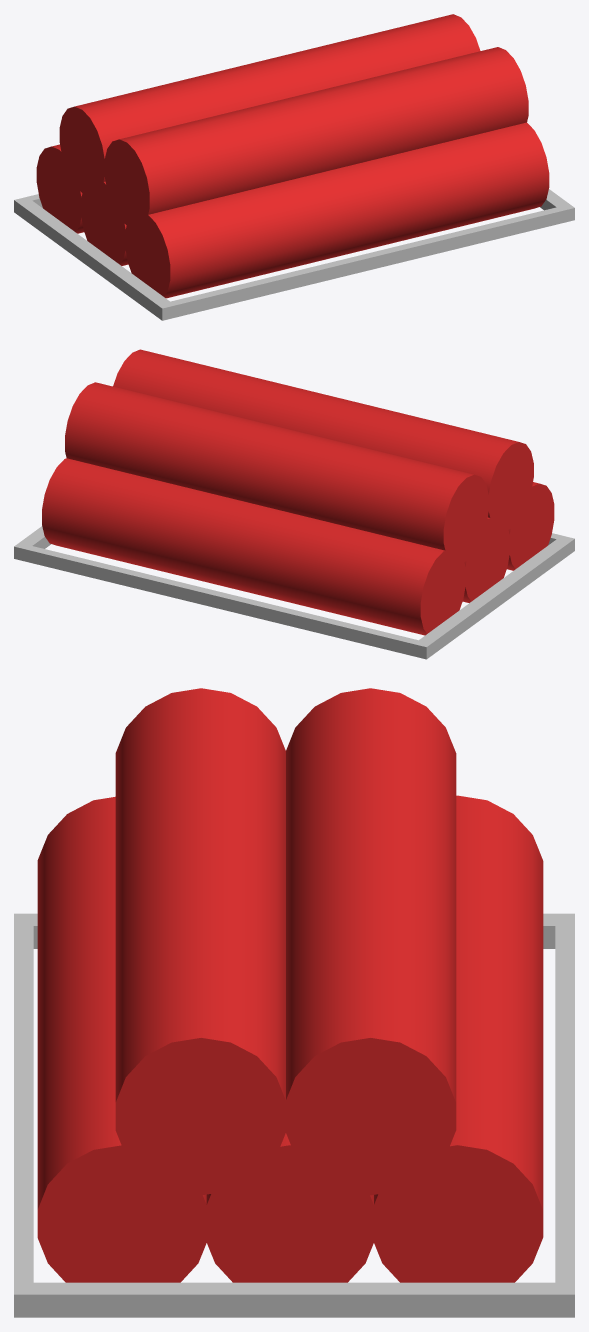
File: wood.fbx
The picture shows the model from 3 angles, top to bottom: view 1: azimuth 30°, elevation 25°; view 2: azimuth 150°, elevation 25°; view 3: azimuth 270°, elevation 25°; orthographic projection. The views are drawn at different scales.
Parts seen in each view (by area): view 1: wood, wood_case; view 2: wood, wood_case; view 3: wood, wood_case.
Boxes of the visible parts, x1=… form: wood: x1=36, y1=14, x2=549, y2=298; wood_case: x1=14, y1=189, x2=574, y2=320; wood: x1=42, y1=349, x2=554, y2=635; wood_case: x1=14, y1=526, x2=574, y2=659; wood: x1=37, y1=688, x2=543, y2=1282; wood_case: x1=14, y1=913, x2=574, y2=1317.
Size of the model in its own units: 51.31 by 16.65 by 31.95.
